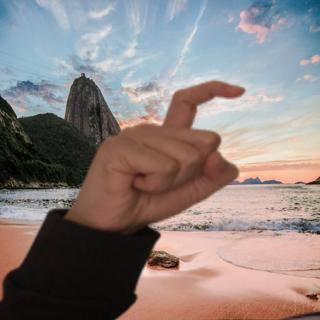WHY: (66, 69, 256, 234)
